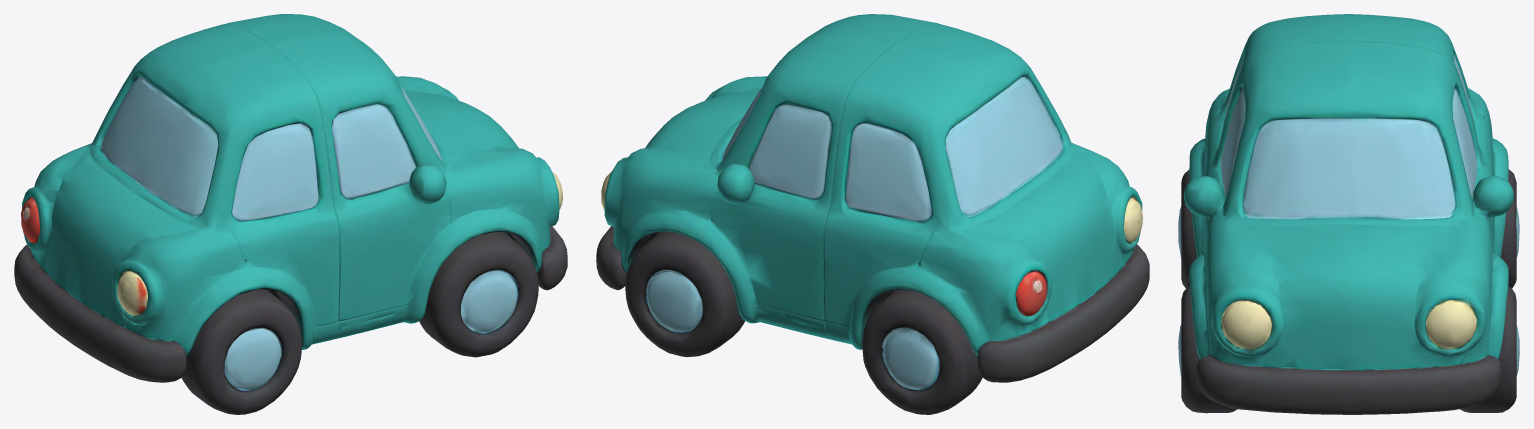
Rendered from sedan.glb.
3 views of the same model, side by side, from view 1: azimuth 30°, elevation 25°; view 2: azimuth 150°, elevation 25°; view 3: azimuth 270°, elevation 25° (orthographic).
Parts seen in each view (by area): view 1: tripo_node_23475e3e-32bf-4660-999c-6d3301ab4697; view 2: tripo_node_23475e3e-32bf-4660-999c-6d3301ab4697; view 3: tripo_node_23475e3e-32bf-4660-999c-6d3301ab4697.
Boxes of the visible parts, x1,y1,x2,y2 form: tripo_node_23475e3e-32bf-4660-999c-6d3301ab4697: (14,14,567,414); tripo_node_23475e3e-32bf-4660-999c-6d3301ab4697: (596,14,1149,414); tripo_node_23475e3e-32bf-4660-999c-6d3301ab4697: (1178,14,1519,414).
Size of the model in its own units: 0.9798 by 0.5916 by 0.6189.
1 material, 1 textured.
